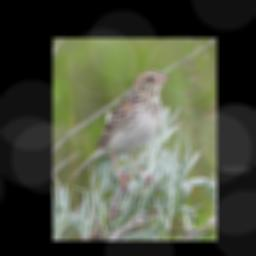Sparrow: (69, 68, 171, 197)
